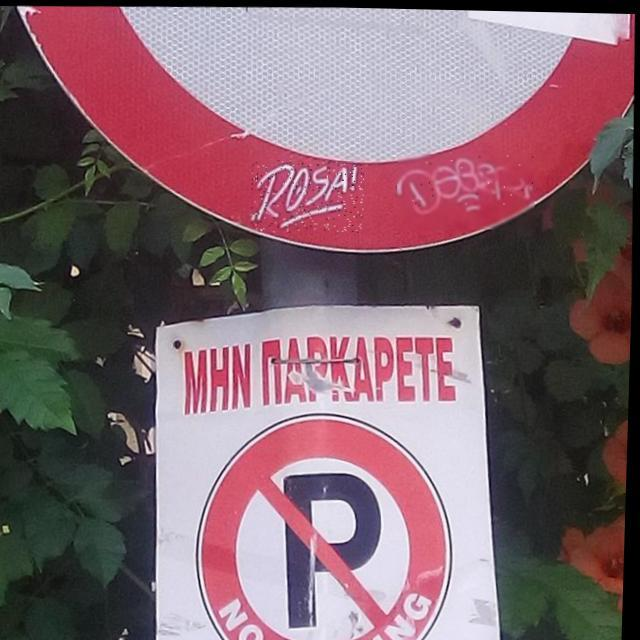-: (396, 150, 537, 228), (250, 156, 366, 232)
